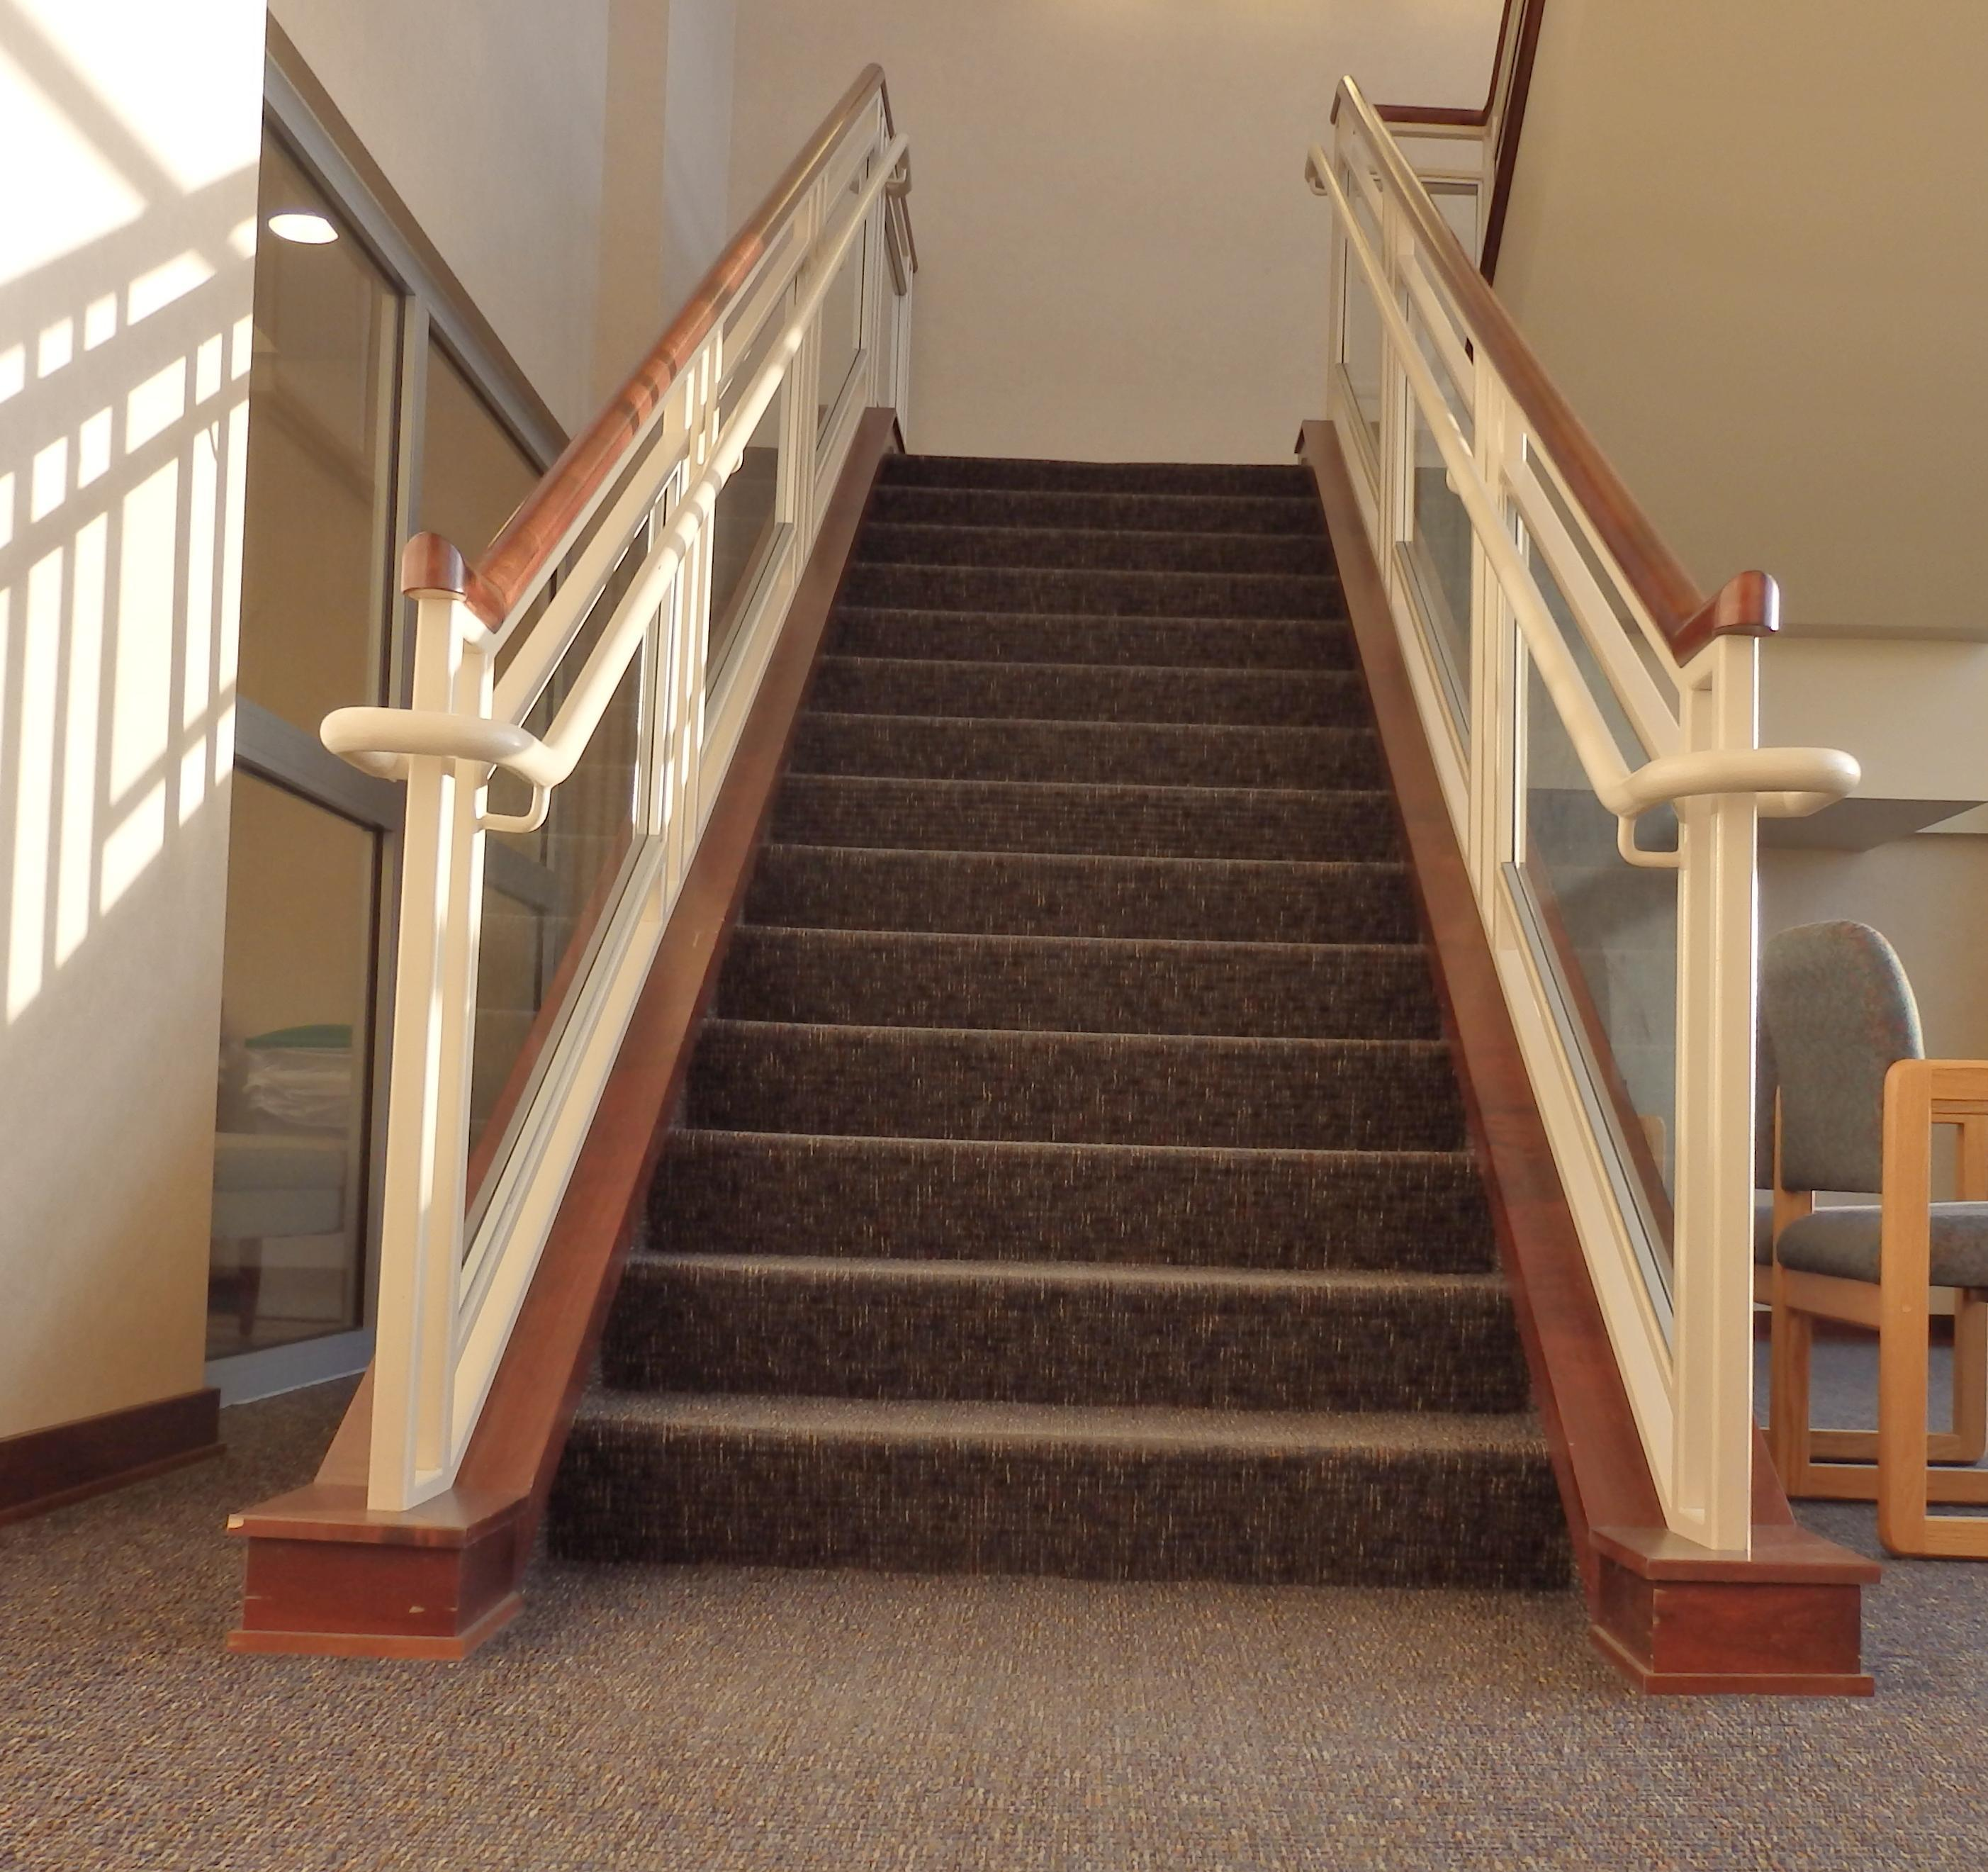stairs_up: (695, 412, 1562, 1603)
